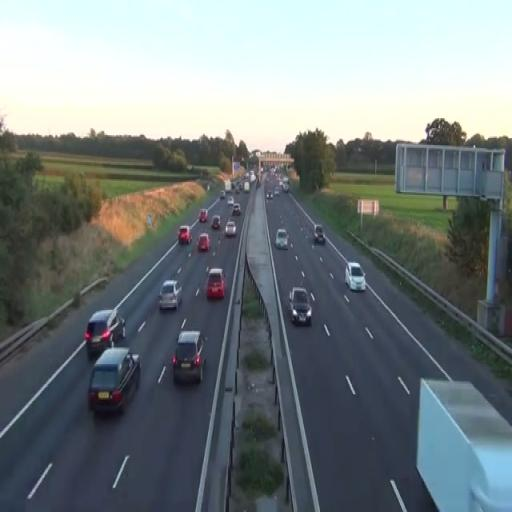Car: (87, 346, 141, 415), (84, 308, 126, 358), (172, 329, 206, 385), (288, 286, 313, 326), (158, 280, 183, 312), (204, 267, 226, 300), (344, 262, 366, 292), (275, 228, 288, 250), (197, 232, 211, 252), (225, 220, 237, 238)
